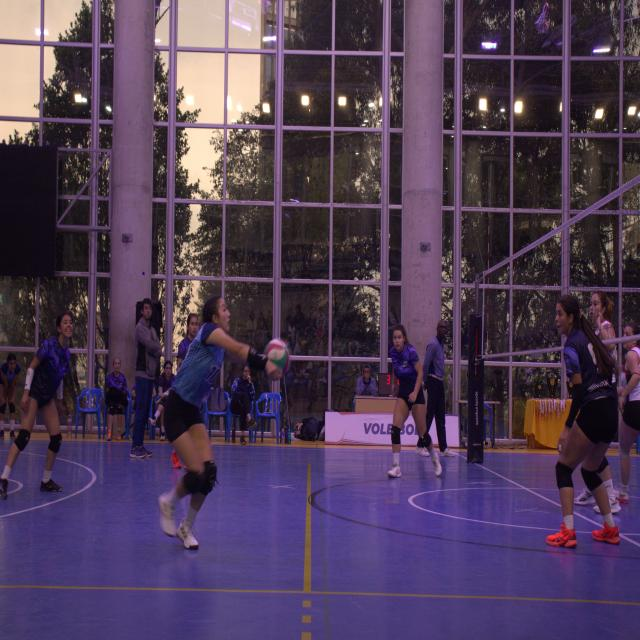volleyball: (263, 339, 290, 374)
